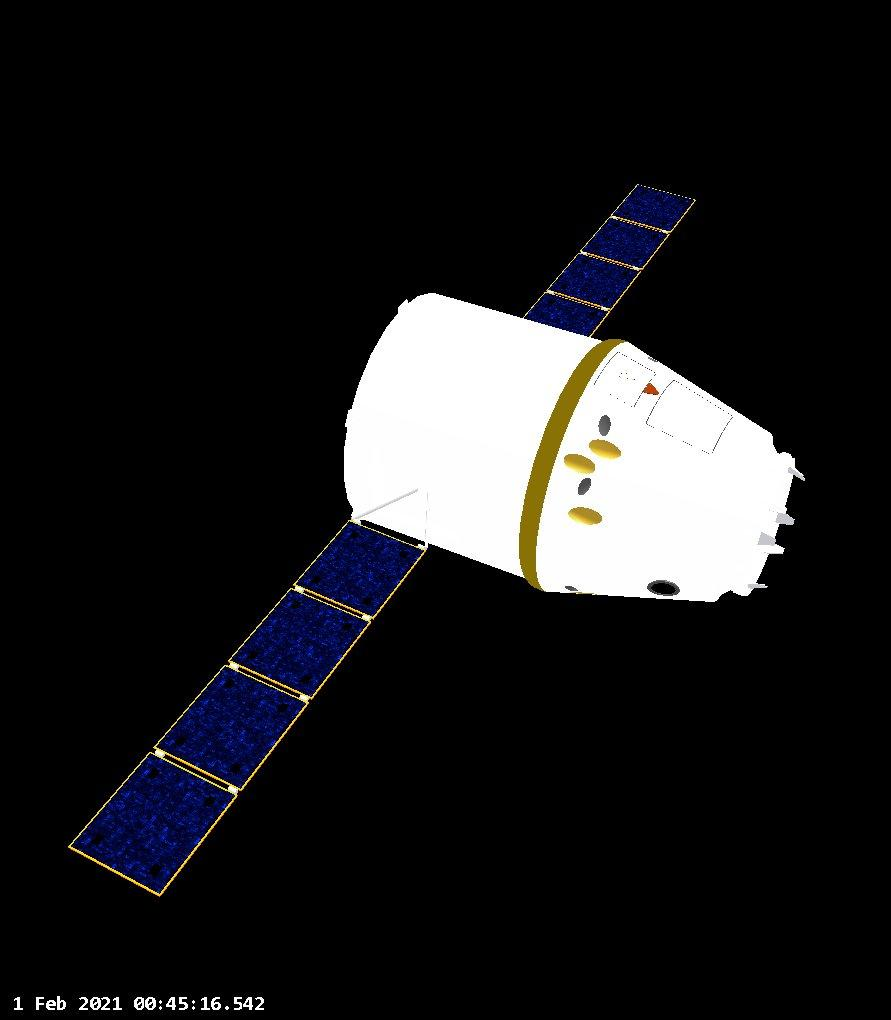body: (339, 289, 807, 608)
solar: (62, 479, 433, 901), (517, 179, 699, 342)
